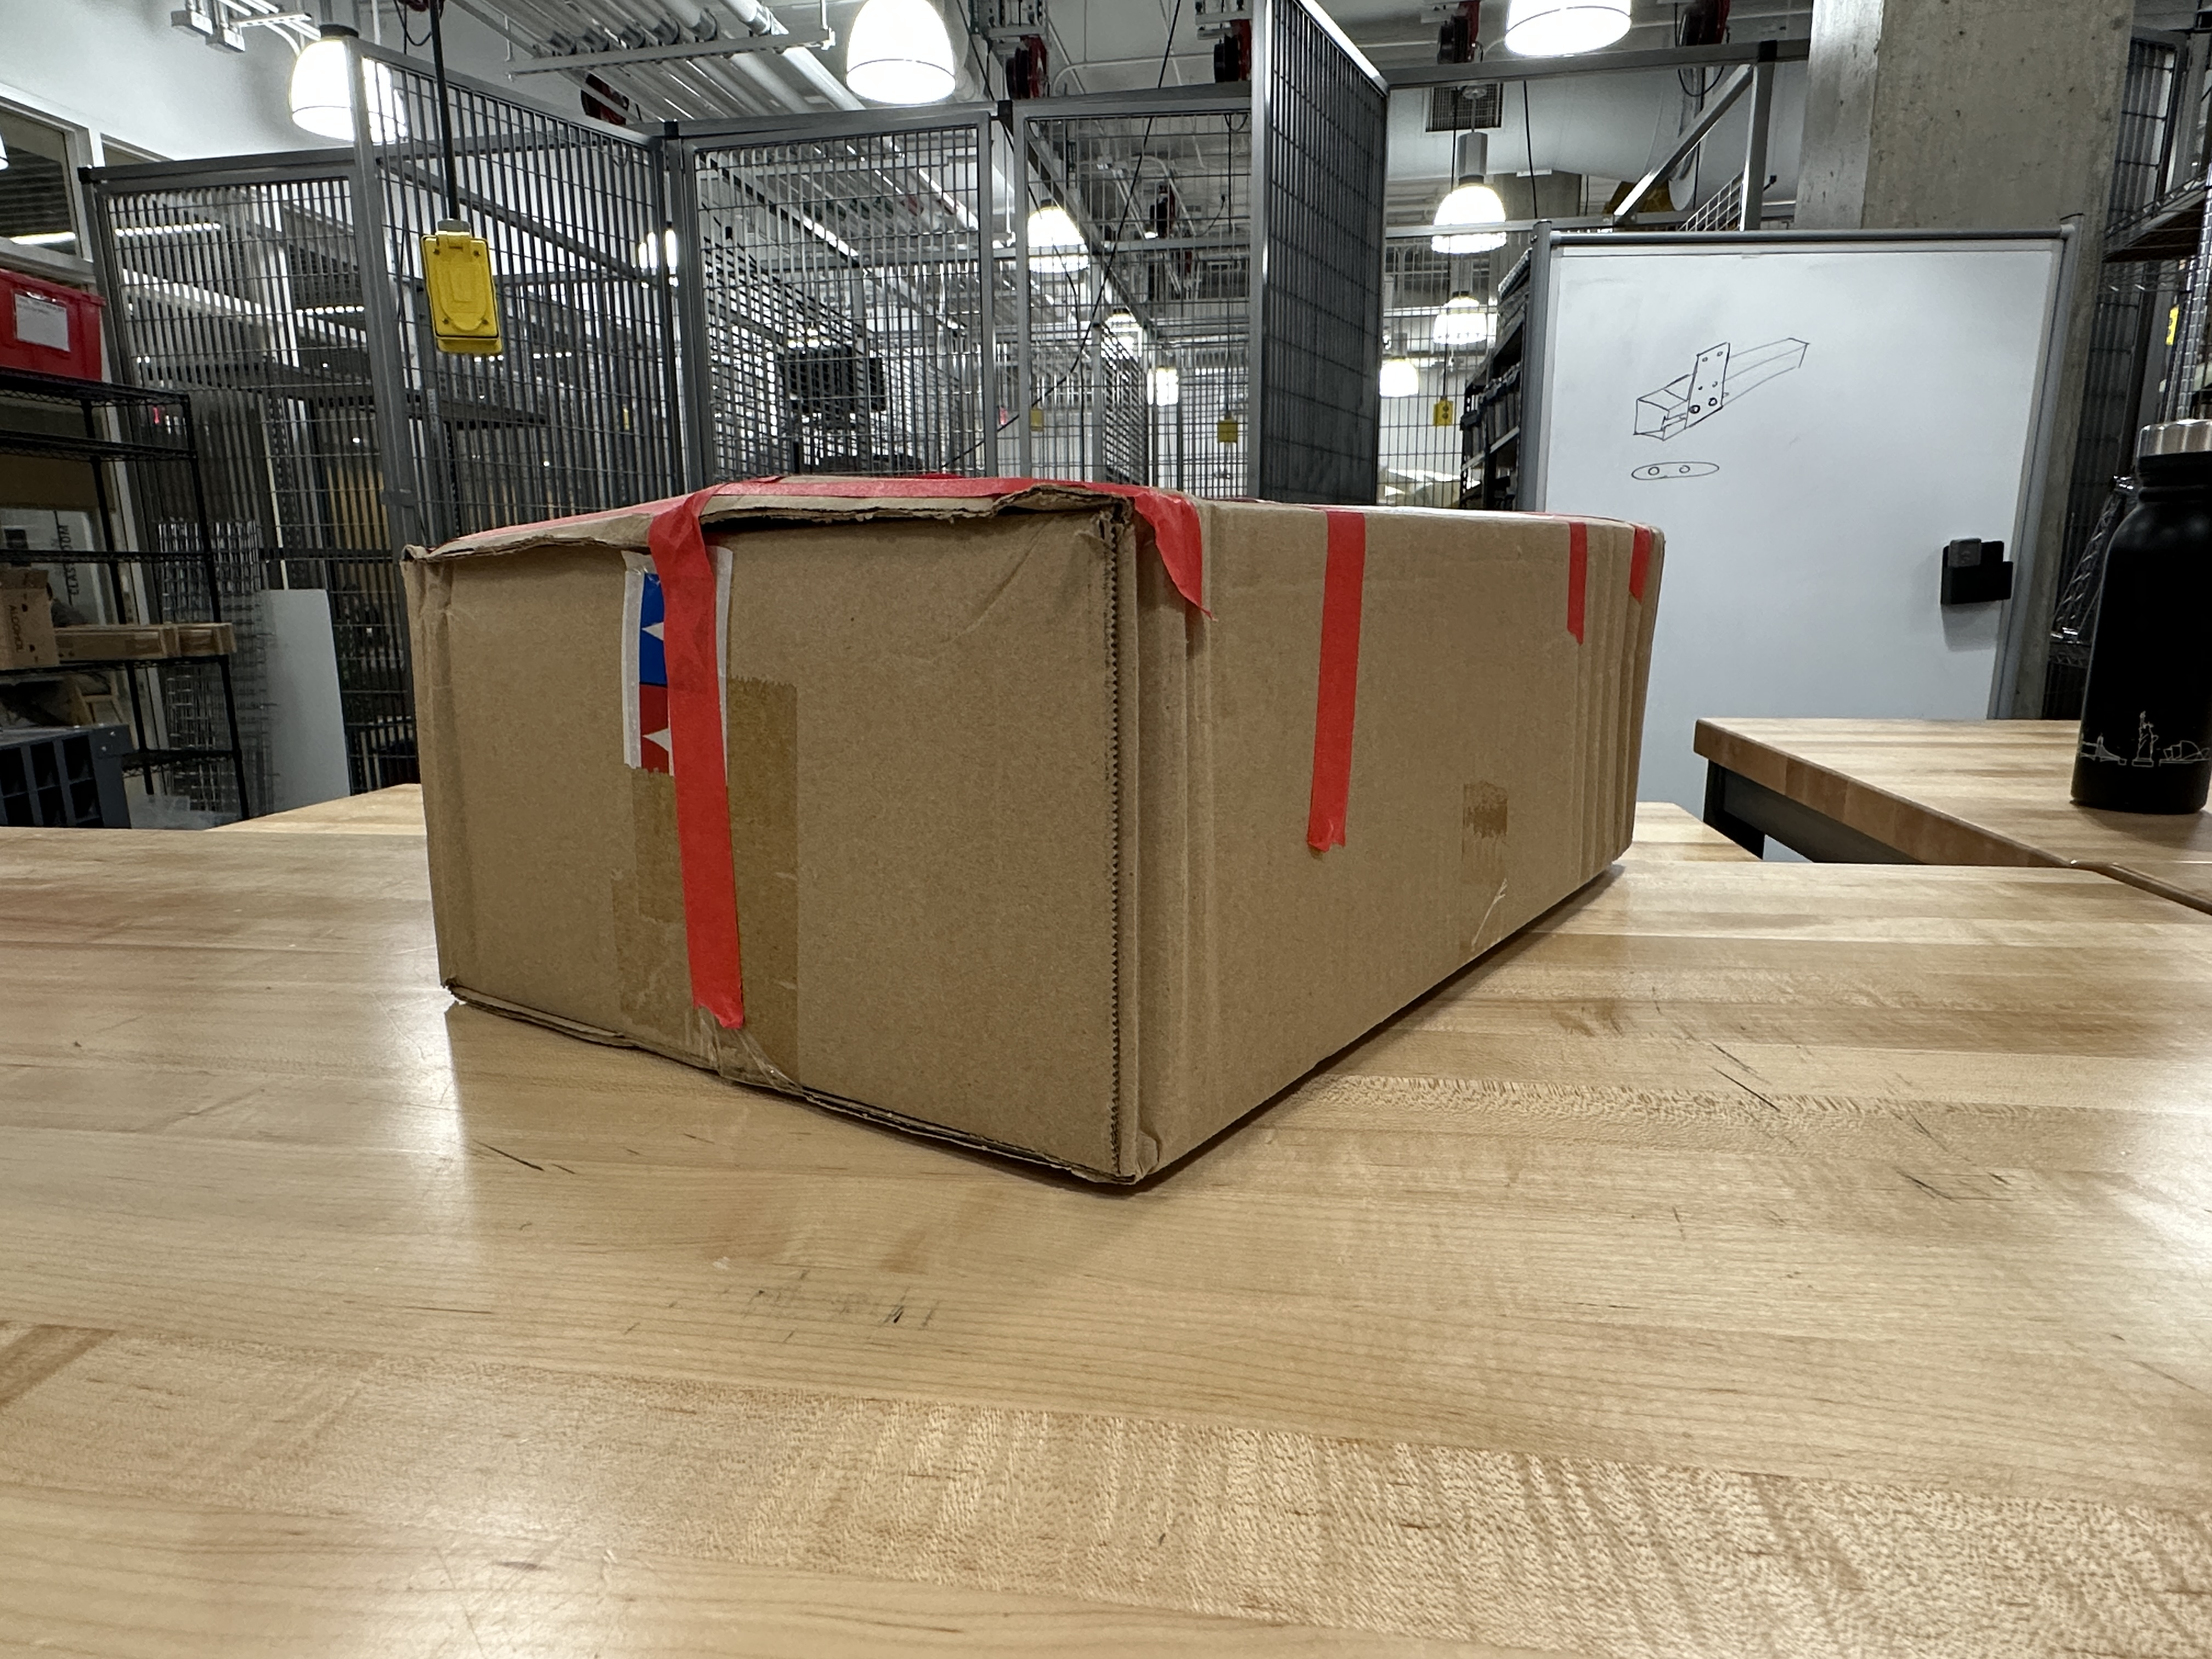Box_Obstacle: (380, 464, 1684, 1225)
